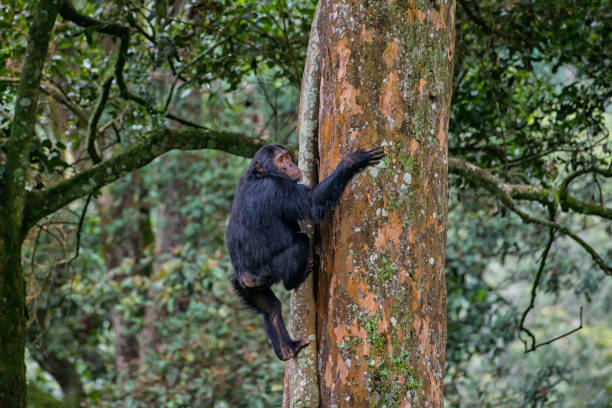chimpanzee: (243, 140, 310, 192)
